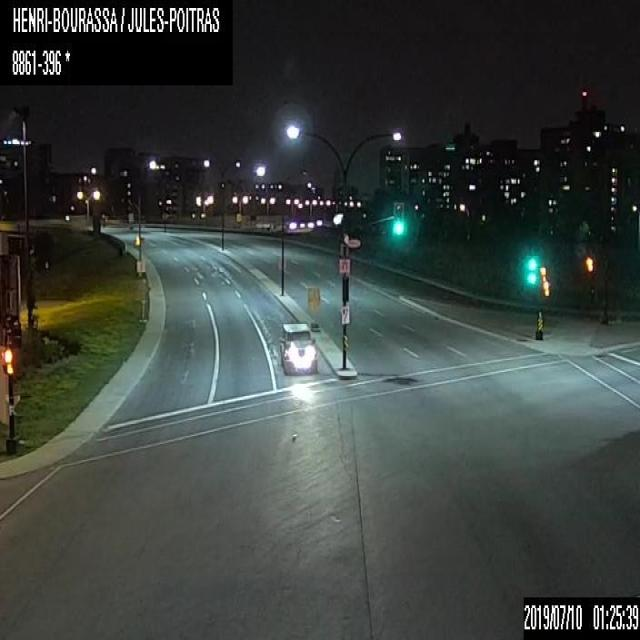vehicle: (278, 321, 316, 375)
